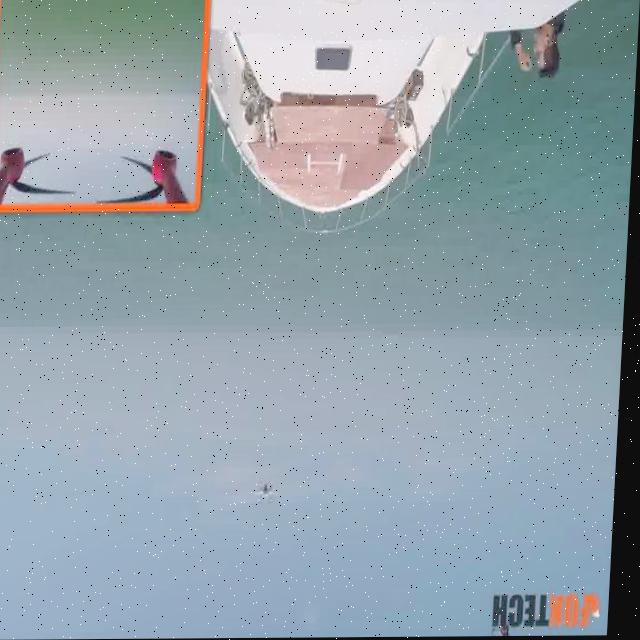drone: (253, 471, 287, 513)
